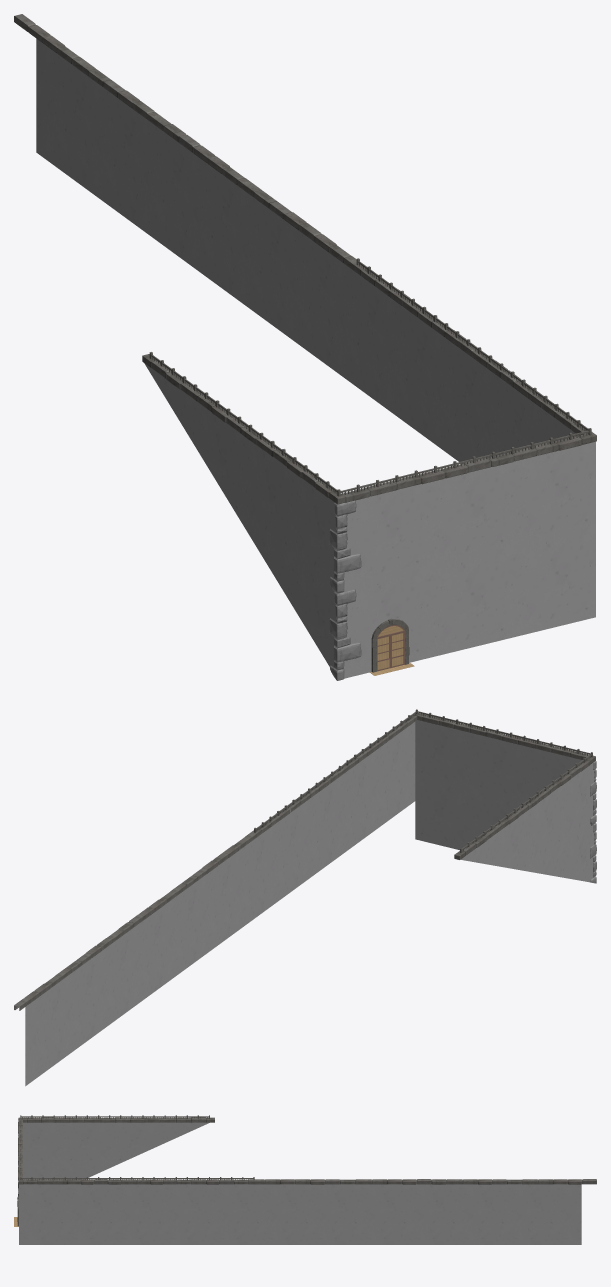
Rendered from SM_ENV_KNVLLG_Wall_02.fbx.
The picture shows the model from 3 angles, top to bottom: view 1: azimuth 30°, elevation 25°; view 2: azimuth 150°, elevation 25°; view 3: azimuth 270°, elevation 25°; orthographic projection. The views are drawn at different scales.
Parts seen in each view (by area): view 1: SM_ENV_KNVLLG_Wall_02.mo; view 2: SM_ENV_KNVLLG_Wall_02.mo; view 3: SM_ENV_KNVLLG_Wall_02.mo.
Part boxes in pixels (box(x1,y1,x2,y2)): SM_ENV_KNVLLG_Wall_02.mo: box(14, 14, 596, 680); SM_ENV_KNVLLG_Wall_02.mo: box(14, 709, 596, 1086); SM_ENV_KNVLLG_Wall_02.mo: box(14, 1115, 596, 1244).
Bounding box in the file's own units: 5067 × 3486 × 19473.
